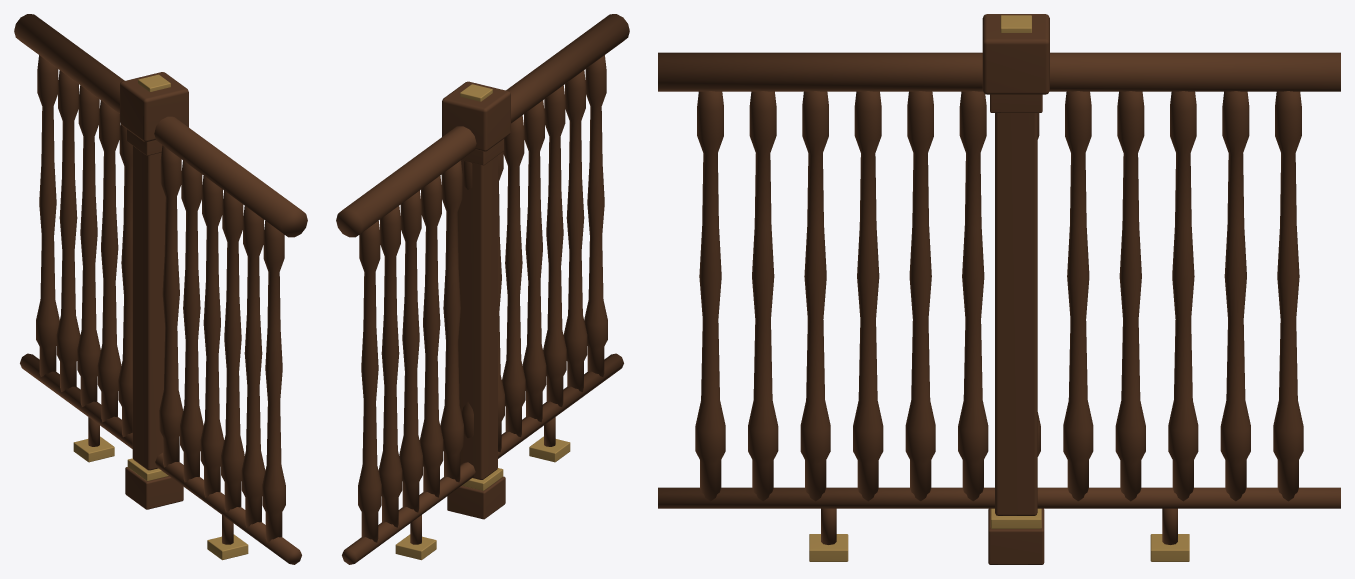
File: rpg-mansion-stair-landing-guard-straight-01.glb
3 views of the same model, side by side, from view 1: azimuth 30°, elevation 25°; view 2: azimuth 150°, elevation 25°; view 3: azimuth 270°, elevation 25° (orthographic). The views are drawn at different scales.
Parts seen in each view (by area): view 1: rpg-mansion-stair-landing-guard-straight-01; view 2: rpg-mansion-stair-landing-guard-straight-01; view 3: rpg-mansion-stair-landing-guard-straight-01.
Boxes of the visible parts, <box> form: rpg-mansion-stair-landing-guard-straight-01: <box>14,14,307,564</box>; rpg-mansion-stair-landing-guard-straight-01: <box>336,14,629,564</box>; rpg-mansion-stair-landing-guard-straight-01: <box>658,14,1340,564</box>.
Size of the model in its own units: 0.12 by 1.05 by 1.22.
